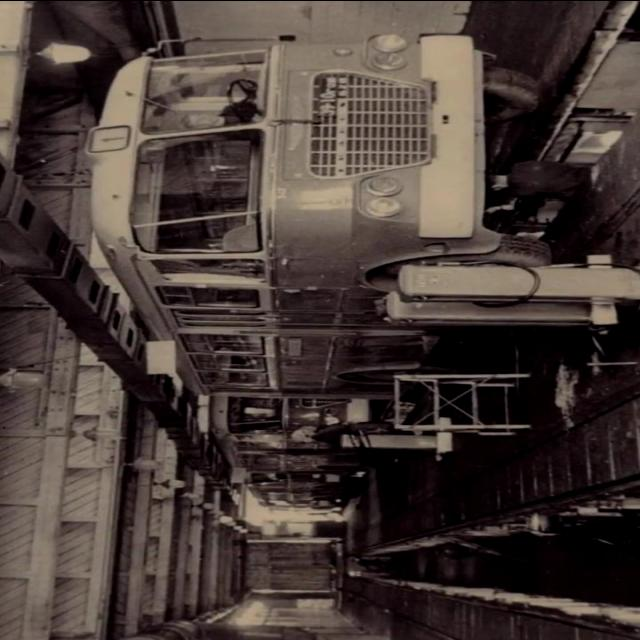bus: (73, 30, 583, 397), (208, 399, 388, 476)
